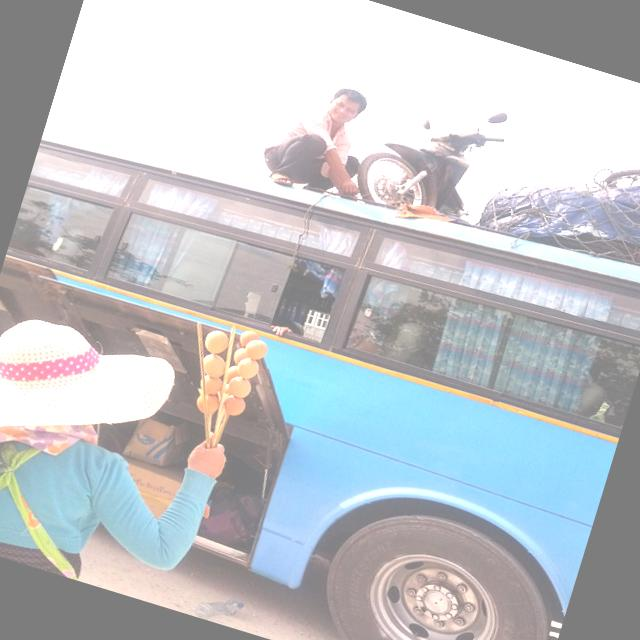Vehicle: (0, 101, 640, 640), (350, 77, 512, 236)
